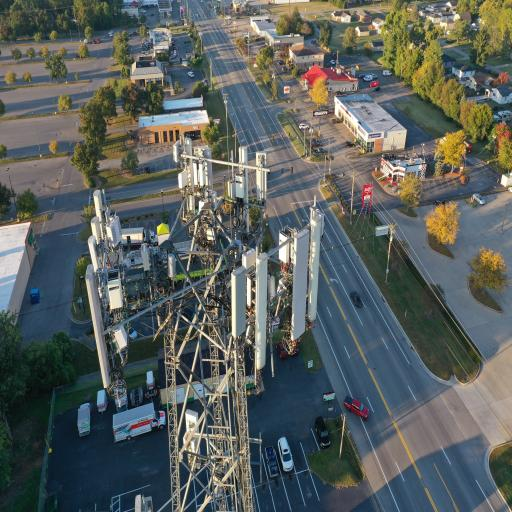supporting_tower: (84, 137, 325, 512)
